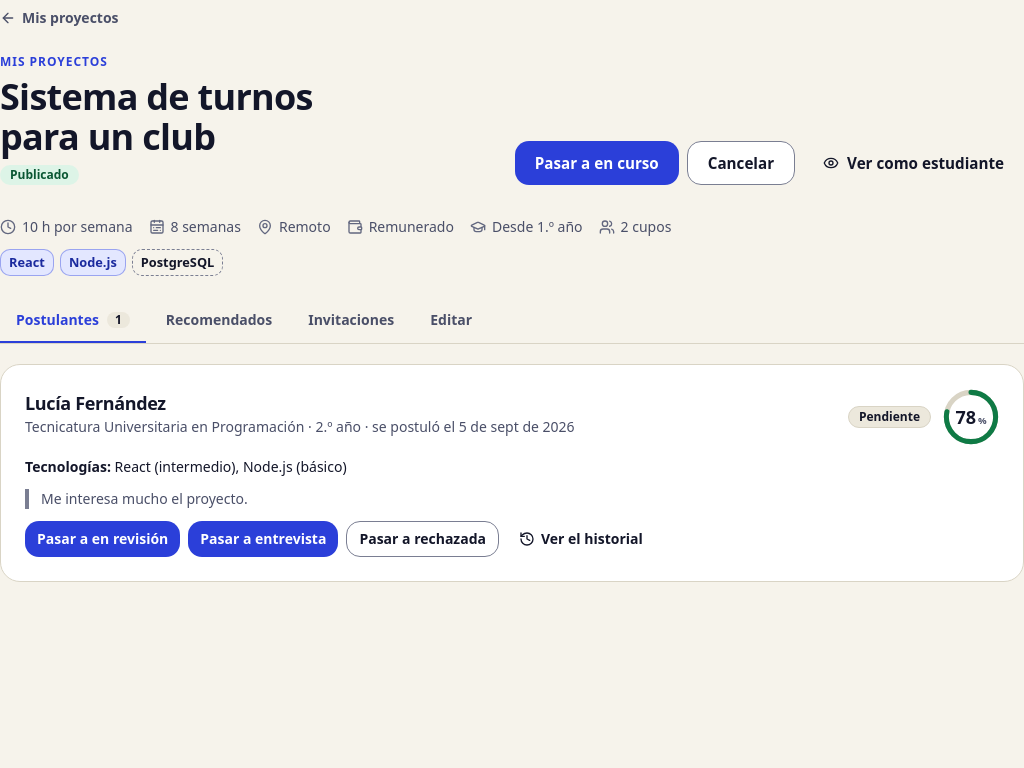
Test: GestionProyectoPage › invita a un estudiante recomendado con un mensaje opcional
Click the tab "Recomendados". click: (219, 322)
box: 150,300 -> 288,344
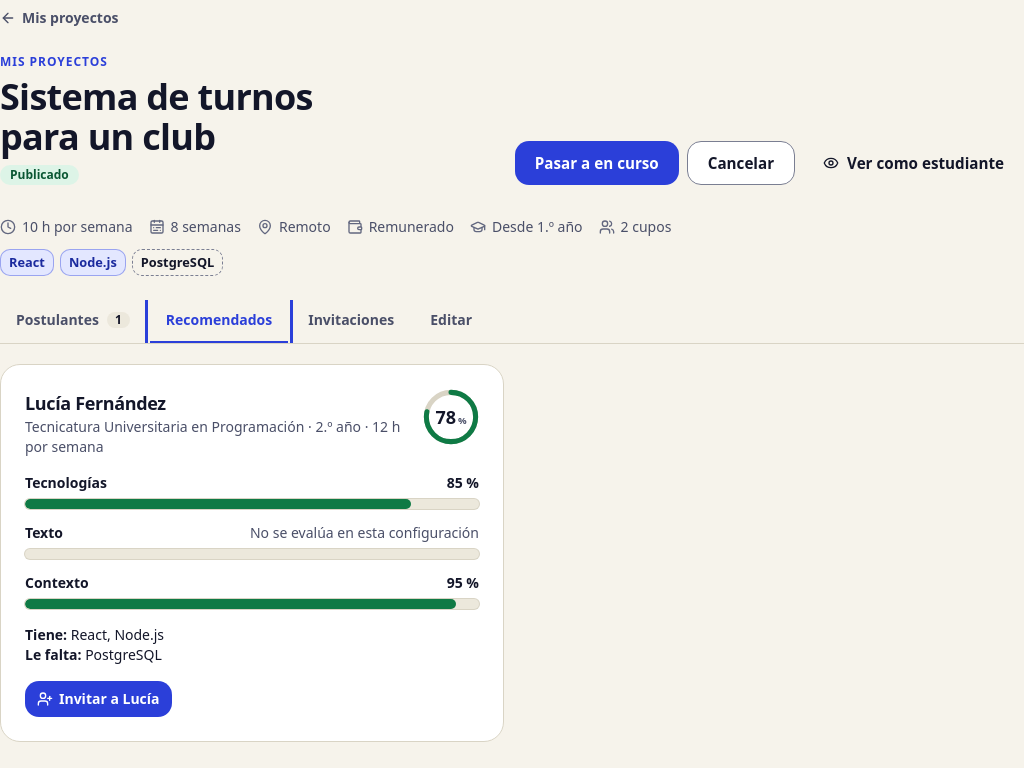
Result: the text "Tiene: React, Node.jsLe falta: PostgreSQL" is shown at 25,625 -> 164,664
Click the button "Invitar a Lucía". click: (98, 699)
box: 25,681 -> 172,717
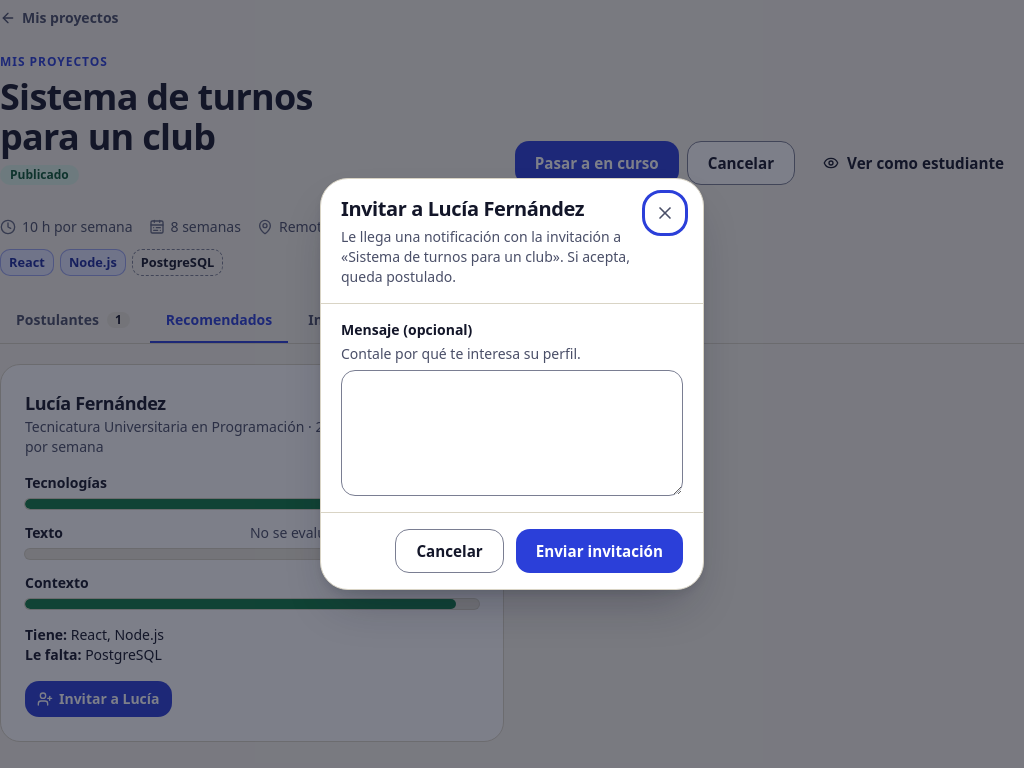
Type "Nos encantaría sumarte." into the text box labelled "Mensaje (opcional)". click: (512, 433)
box: 341,370 -> 683,496
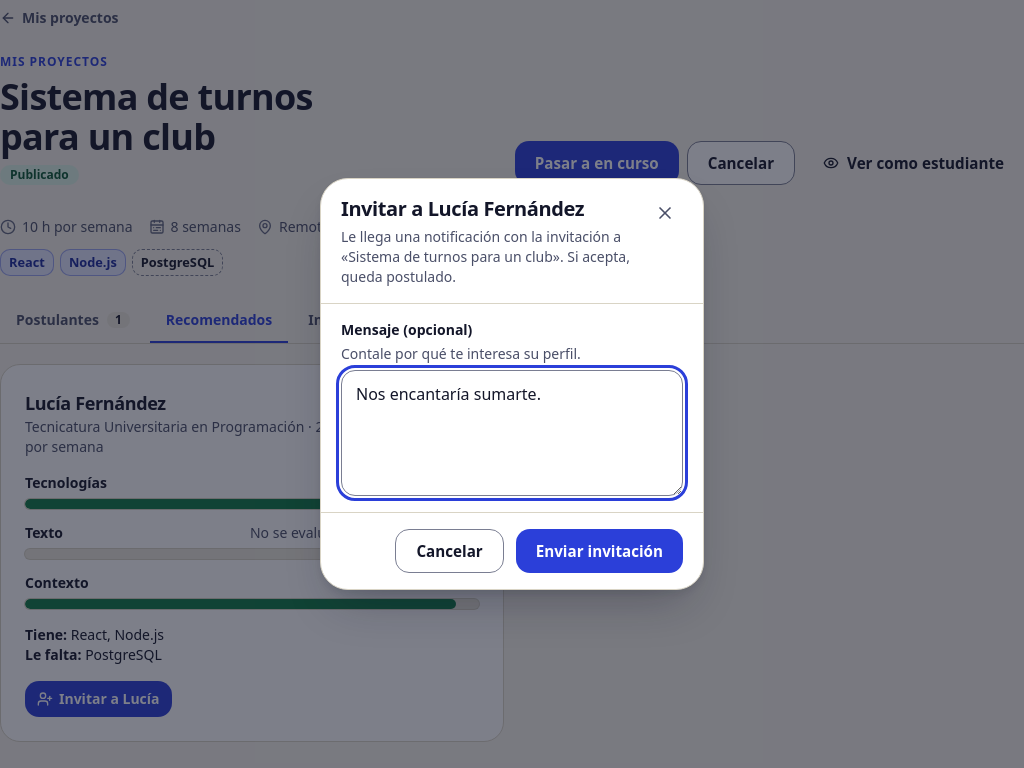
Click the button "Enviar invitación". click: (599, 551)
box: 516,529 -> 683,573
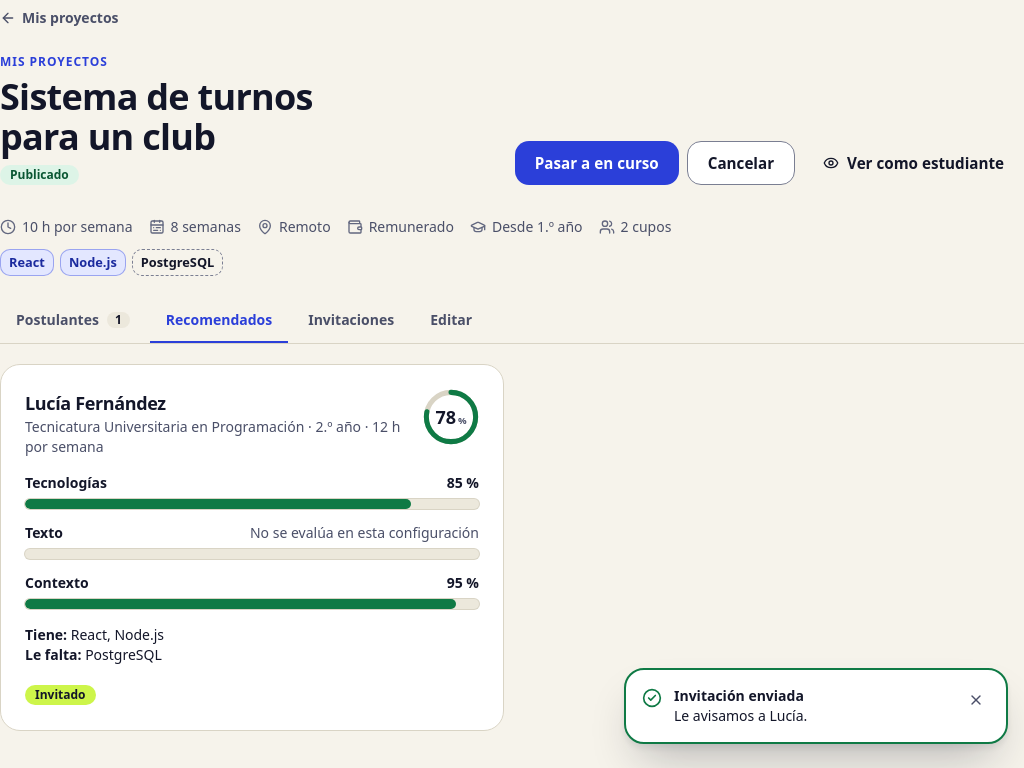
Result: the text "Invitado" is shown at 25,685 -> 96,705
